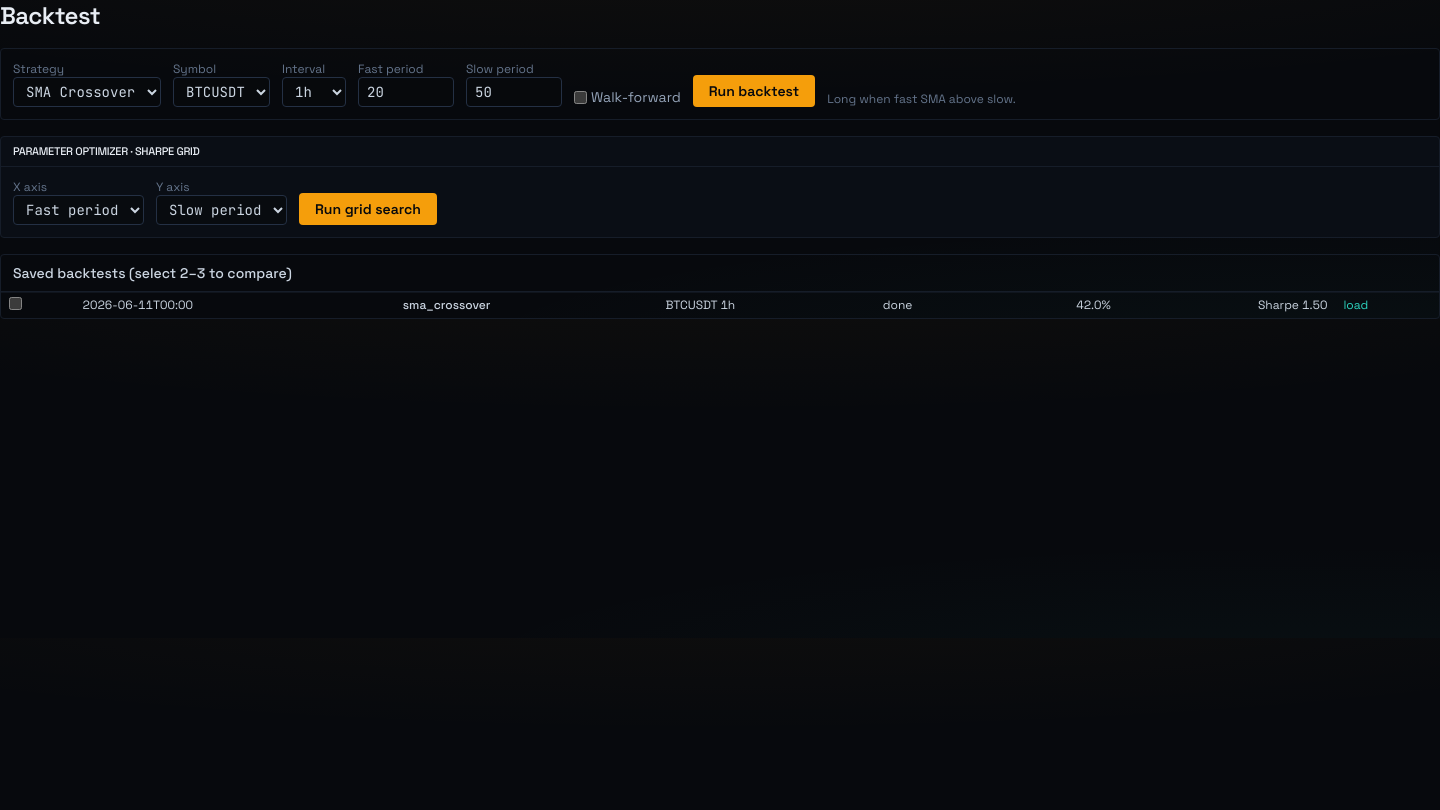
Test: BacktestPage › runs a backtest, polls, and renders results
The image size is (1440, 810).
Expected: the number field labelled "Fast period" is shown, [358, 77, 454, 107]
Click the button "Run backtest": [754, 91] box [693, 75, 815, 107]
(page scrolled)
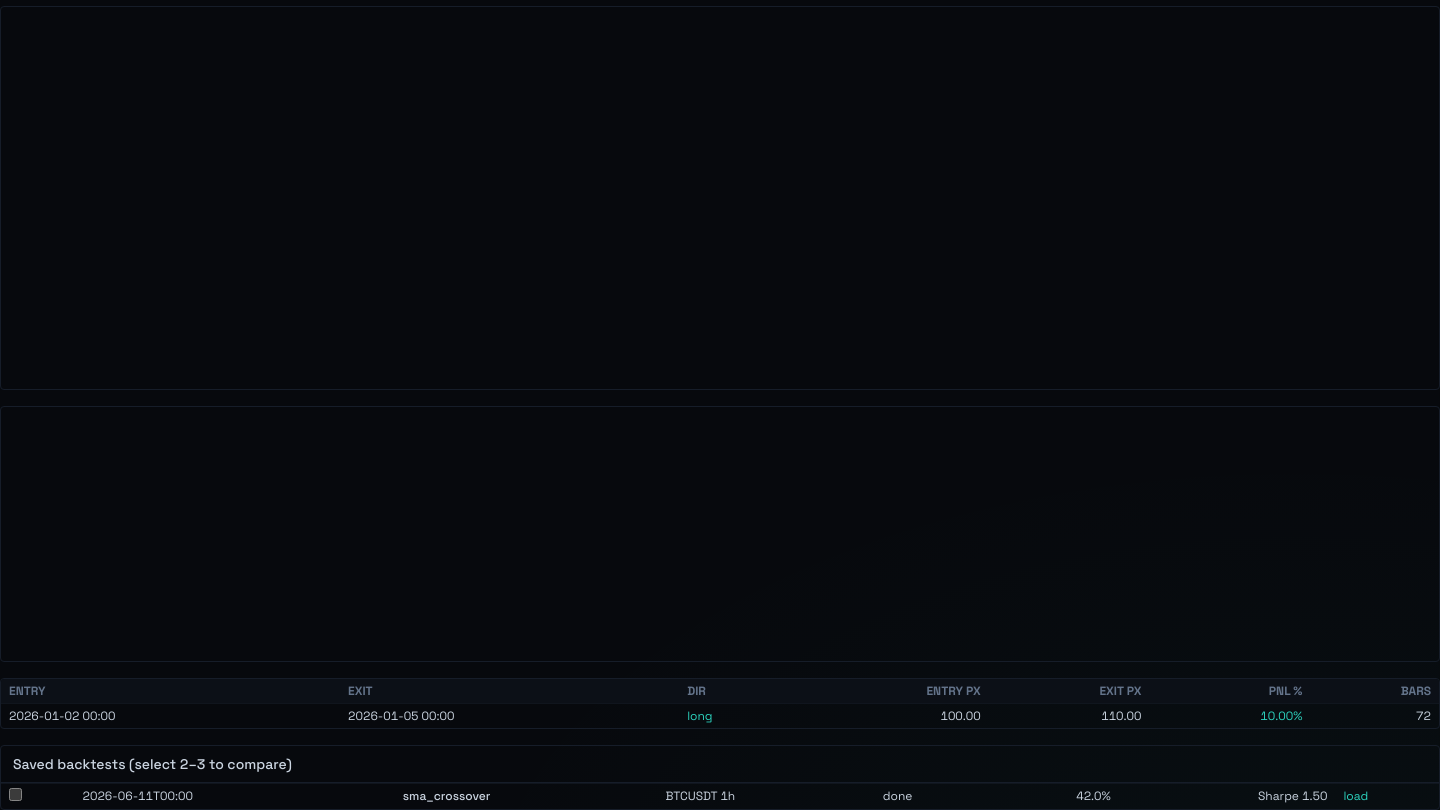
Expected: the table with test id "trades-table" is shown, [1, 678, 1439, 728]
